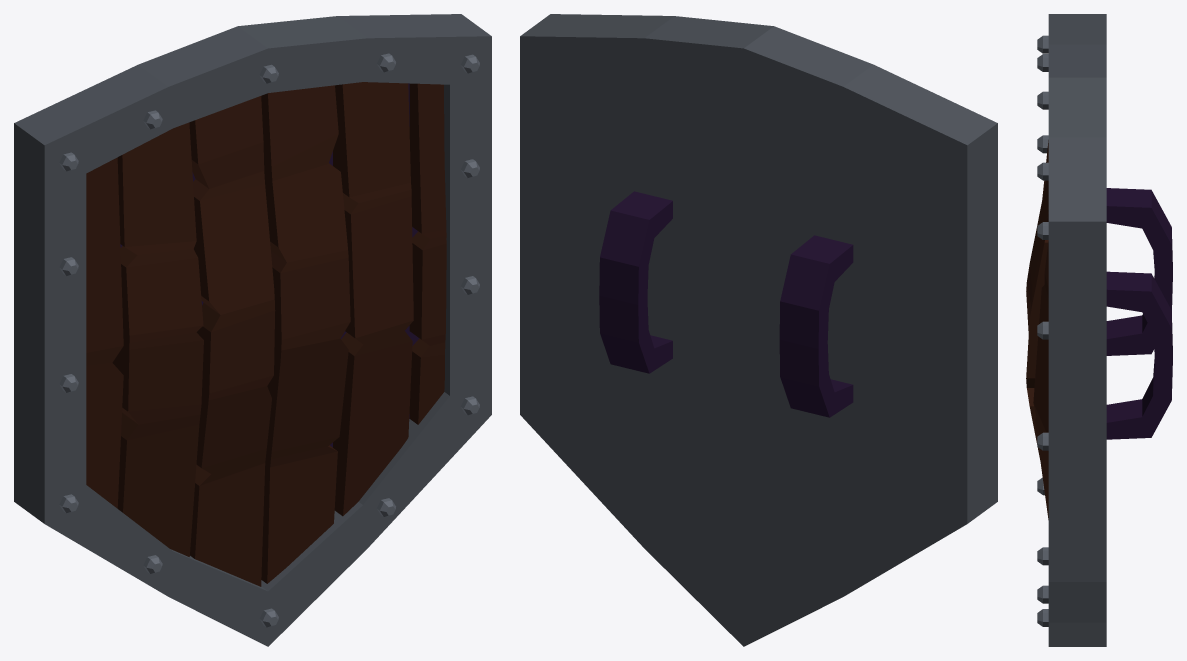
Rendered from Shield_Heater_2.glb.
3 renders of one model, left to right at view 1: azimuth 30°, elevation 25°; view 2: azimuth 150°, elevation 25°; view 3: azimuth 270°, elevation 25°, orthographic. The views are drawn at different scales.
Visible parts, largest first — view 1: Shield_Heater_2; view 2: Shield_Heater_2; view 3: Shield_Heater_2.
Boxes of the visible parts, <box> form: Shield_Heater_2: <box>14,14,491,646</box>; Shield_Heater_2: <box>520,14,997,646</box>; Shield_Heater_2: <box>1026,14,1172,646</box>.
Bounding box in the file's own units: 0.4067 × 0.52 × 0.1214.
